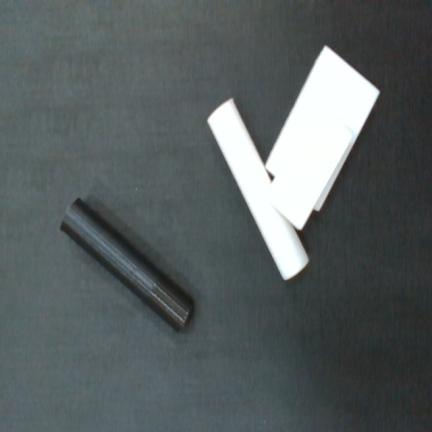Cilindro: (207, 95, 310, 281), (59, 197, 194, 334)
Paralelepipedo: (262, 44, 381, 211), (264, 101, 353, 231)
